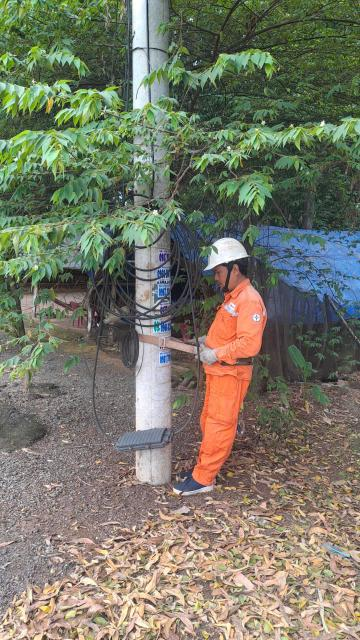gloves: (196, 343, 228, 370), (189, 324, 218, 352)
harness: (147, 333, 258, 378)
helmet: (187, 232, 263, 277)
shoes: (176, 477, 220, 494), (174, 463, 203, 487)
